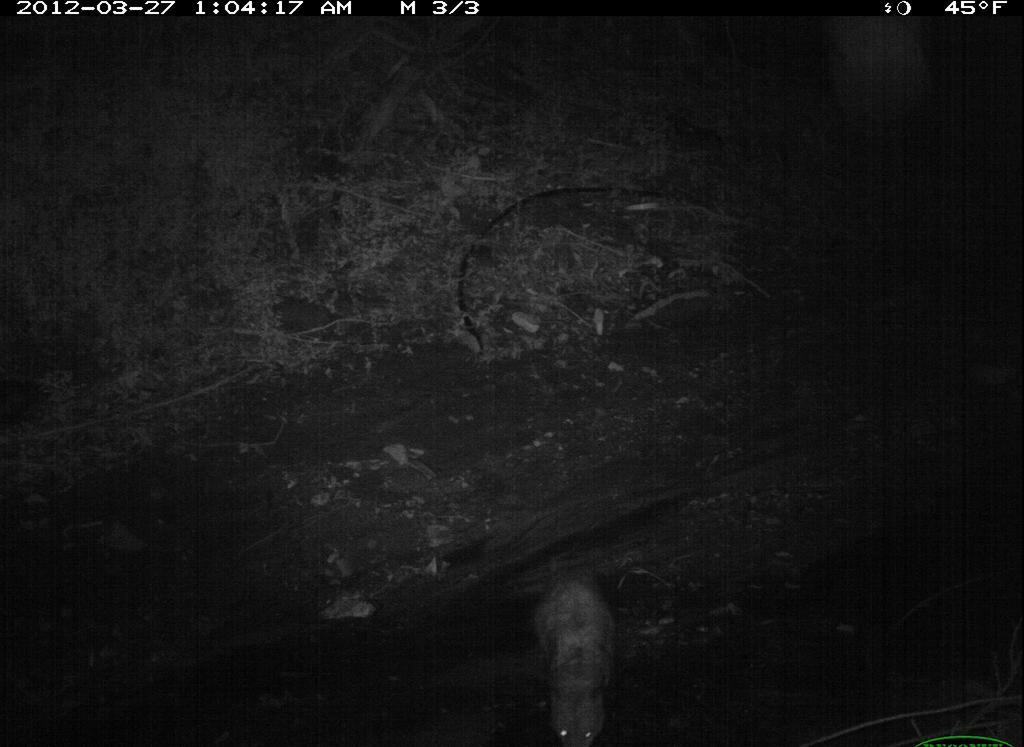opossum: (521, 542, 624, 745)
